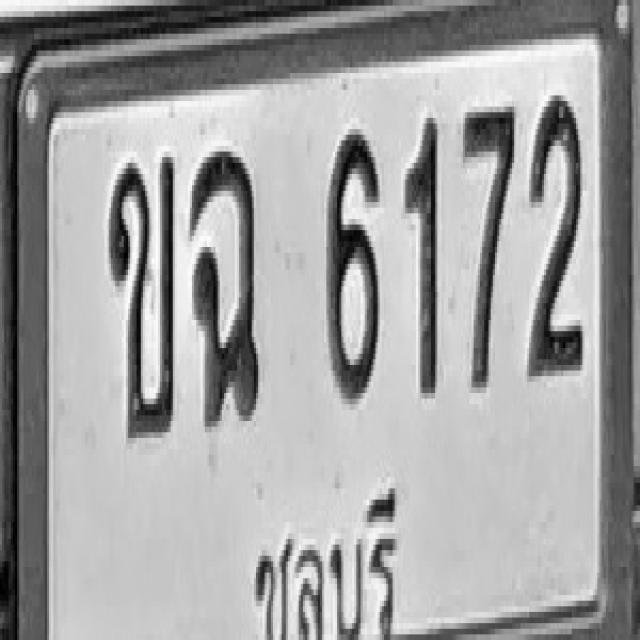1: (403, 115, 438, 396)
11KhorKhai: (108, 151, 176, 438)
18ChorChing: (189, 146, 259, 427)
2: (528, 93, 581, 373)
6: (328, 129, 378, 399)
7: (462, 104, 515, 390)
Chonburi: (238, 454, 437, 640)
